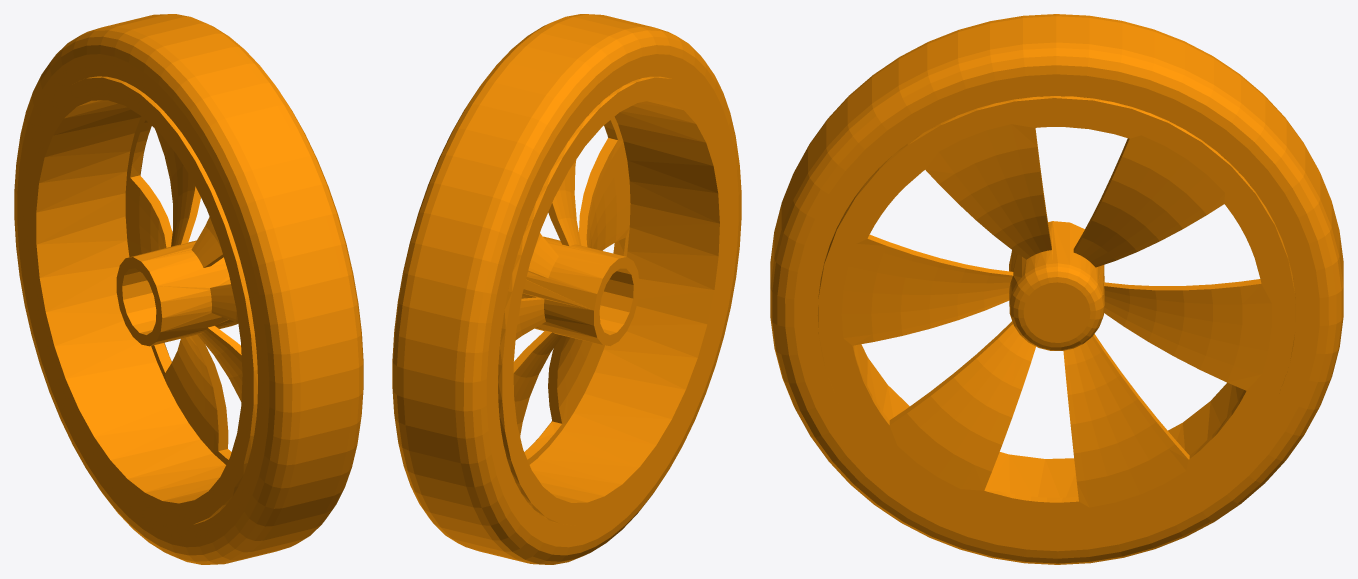
File: Wheel1.dae
3 renders of one model, left to right at view 1: azimuth 30°, elevation 25°; view 2: azimuth 150°, elevation 25°; view 3: azimuth 270°, elevation 25°, orthographic. The views are drawn at different scales.
Visible parts, largest first — view 1: Wheel1; view 2: Wheel1; view 3: Wheel1.
Part boxes in pixels (<box>): Wheel1: <box>14,14,363,564</box>; Wheel1: <box>392,14,741,564</box>; Wheel1: <box>770,14,1343,564</box>.
Size of the model in its own units: 0.025 by 0.1198 by 0.12.
